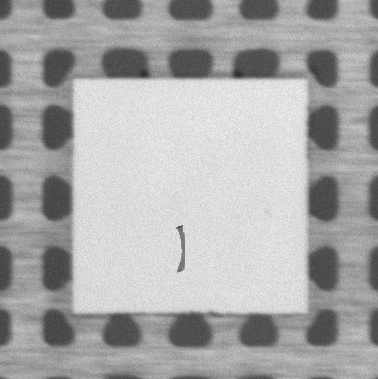DIE_INK: (173, 224, 185, 276)
